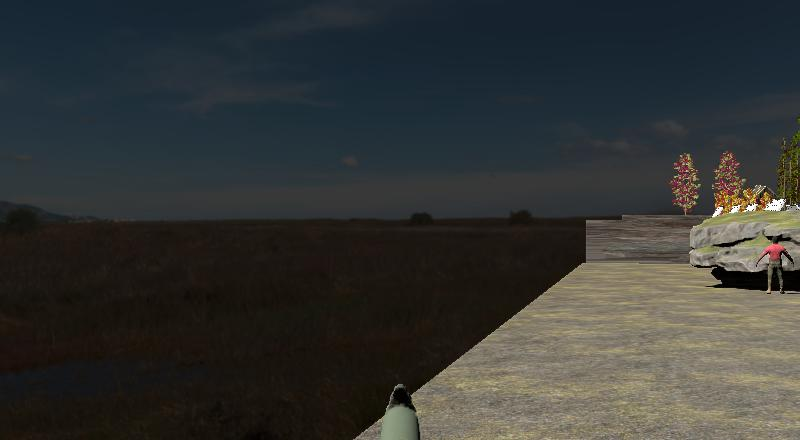Human: (755, 233, 796, 297)
